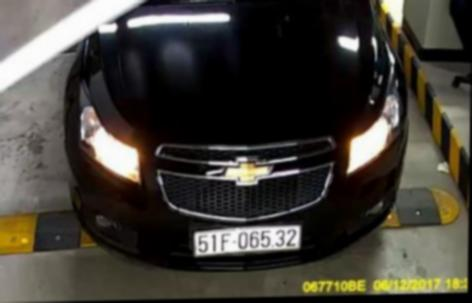License_Plate: (186, 218, 308, 258)
